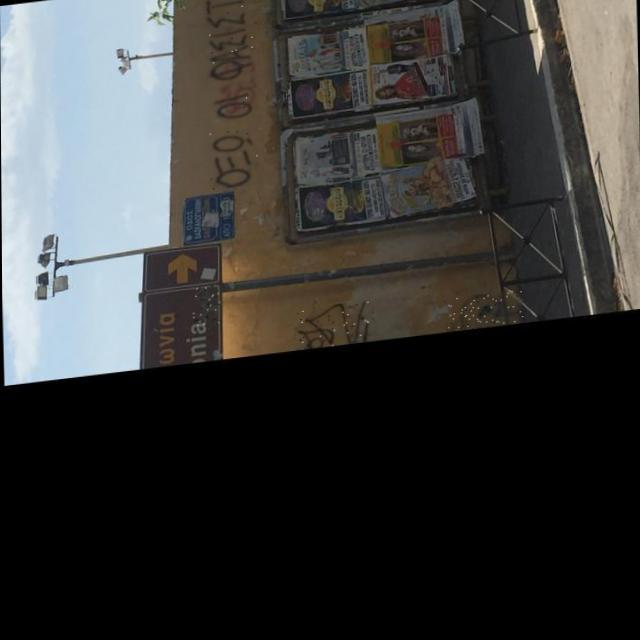-: (204, 0, 258, 194), (296, 308, 369, 356), (446, 300, 522, 341), (192, 290, 220, 330), (264, 214, 282, 246)
